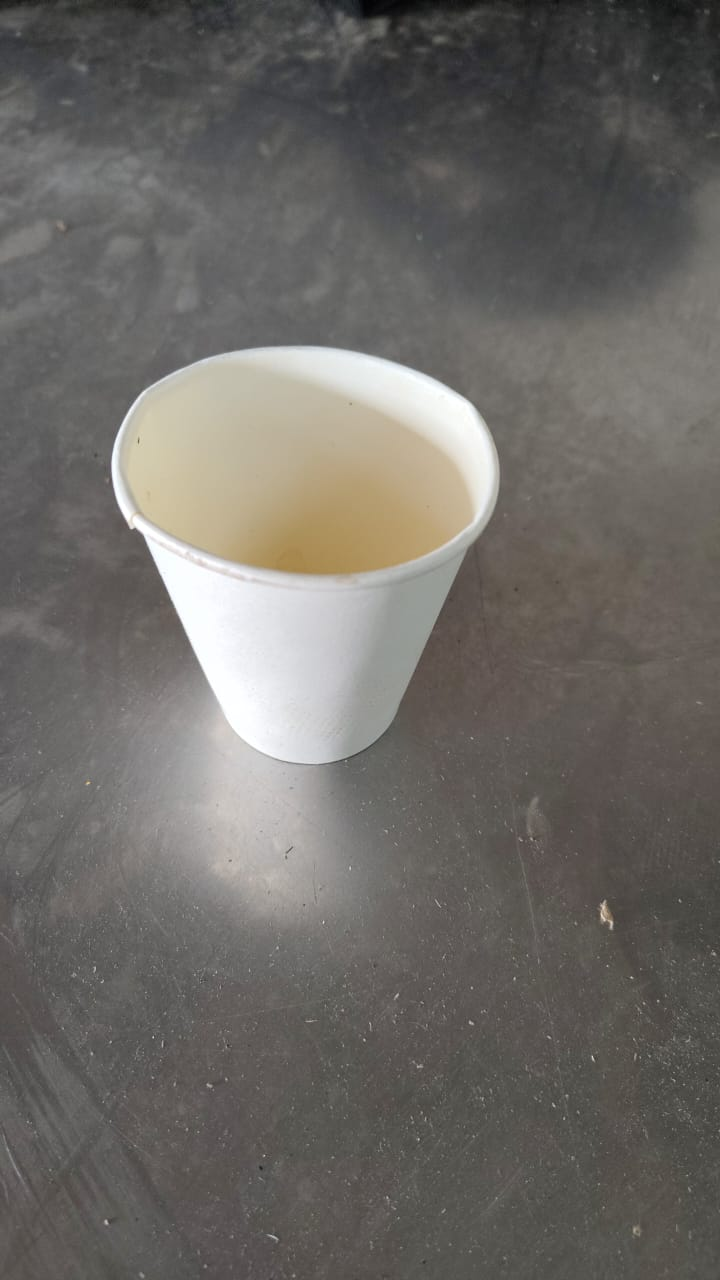Carton: (112, 341, 503, 773)
